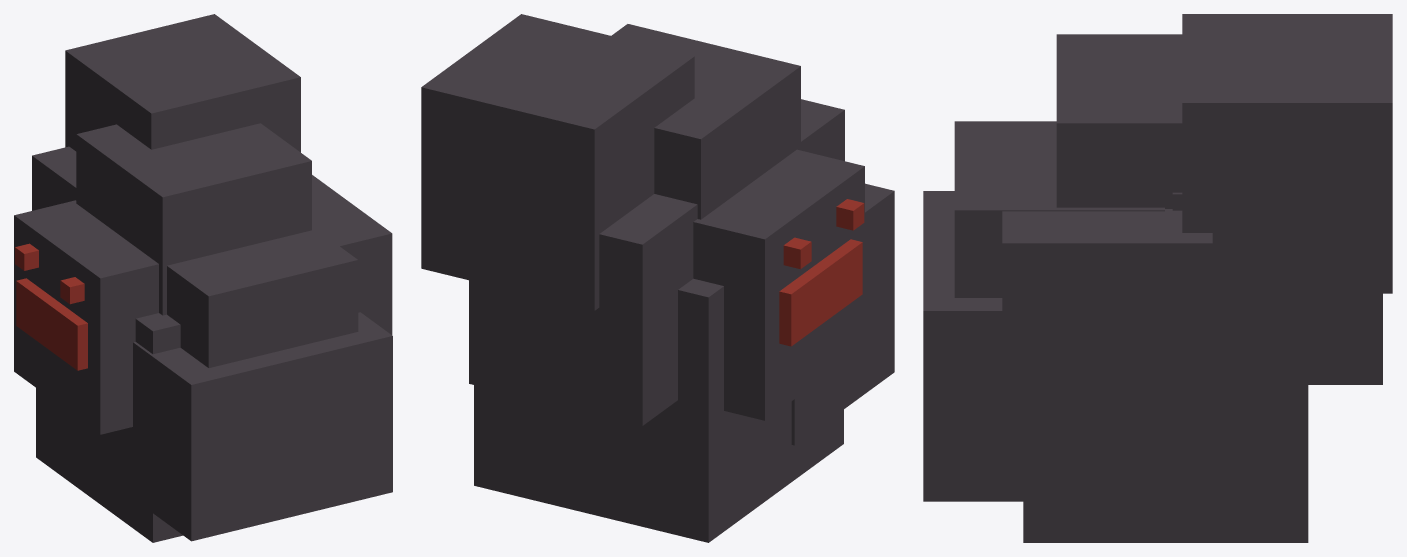
The model's file is Warlock2.fbx.
3 views of the same model, side by side, from view 1: azimuth 30°, elevation 25°; view 2: azimuth 150°, elevation 25°; view 3: azimuth 270°, elevation 25° (orthographic). The views are drawn at different scales.
Parts seen in each view (by area): view 1: Cube.048; view 2: Cube.048; view 3: Cube.048.
Boxes of the visible parts, x1,y1,x2,y2 form: Cube.048: (14,14,392,542); Cube.048: (421,14,894,542); Cube.048: (923,14,1392,542).
Bounding box in the file's own units: 1 × 1.25 × 1.19.
